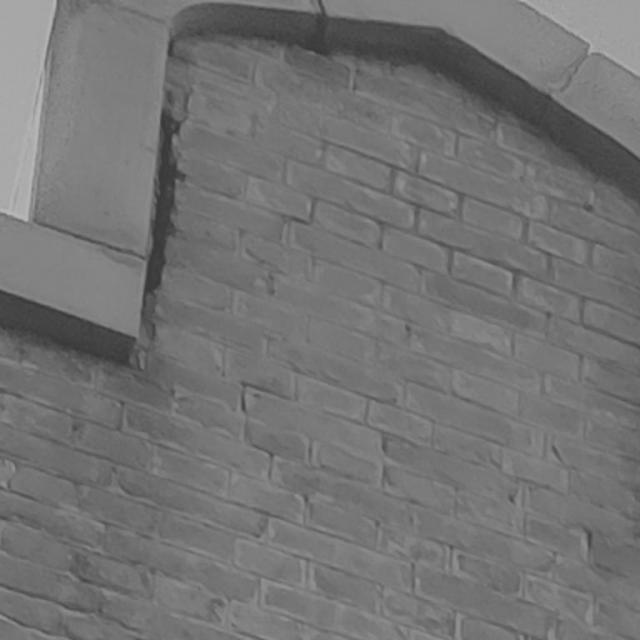crack: (144, 108, 188, 310)
